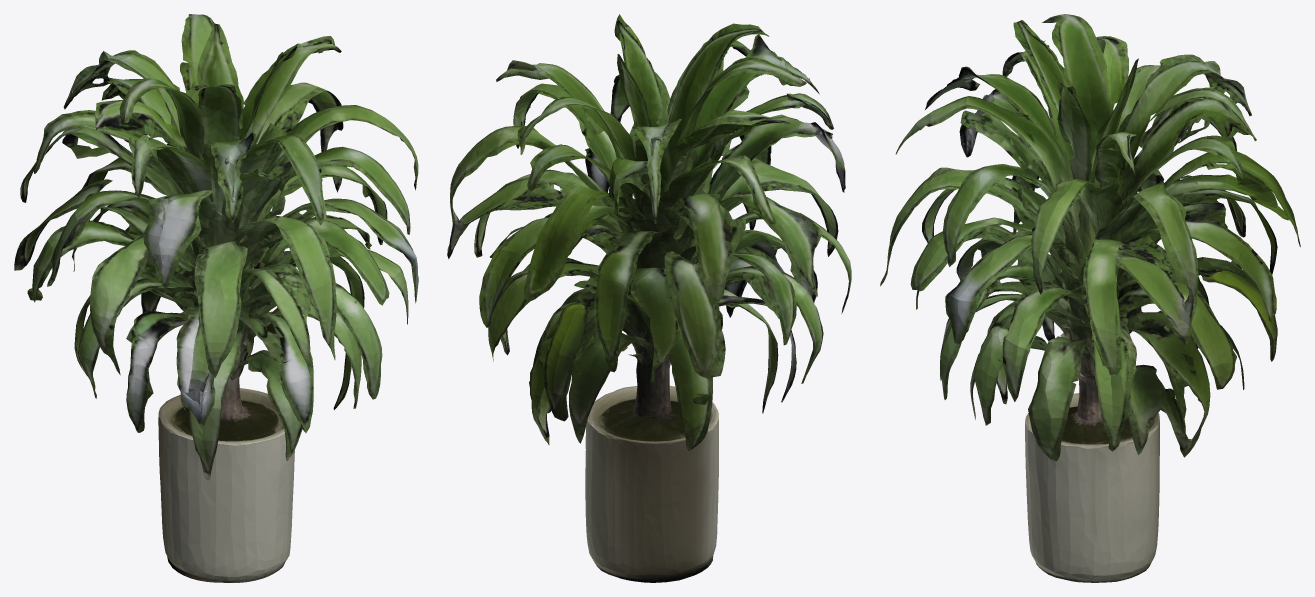
The picture shows the model from 3 angles, left to right: view 1: azimuth 30°, elevation 25°; view 2: azimuth 150°, elevation 25°; view 3: azimuth 270°, elevation 25°; orthographic projection. The views are drawn at different scales.
Visible parts, largest first — view 1: world; view 2: world; view 3: world.
Boxes of the visible parts, bbox=[...] form: world: bbox=[14, 14, 418, 582]; world: bbox=[447, 14, 851, 582]; world: bbox=[880, 14, 1300, 582].
Bounding box in the file's own units: 0.6839 × 0.9998 × 0.7525.
1 material, 1 textured.
